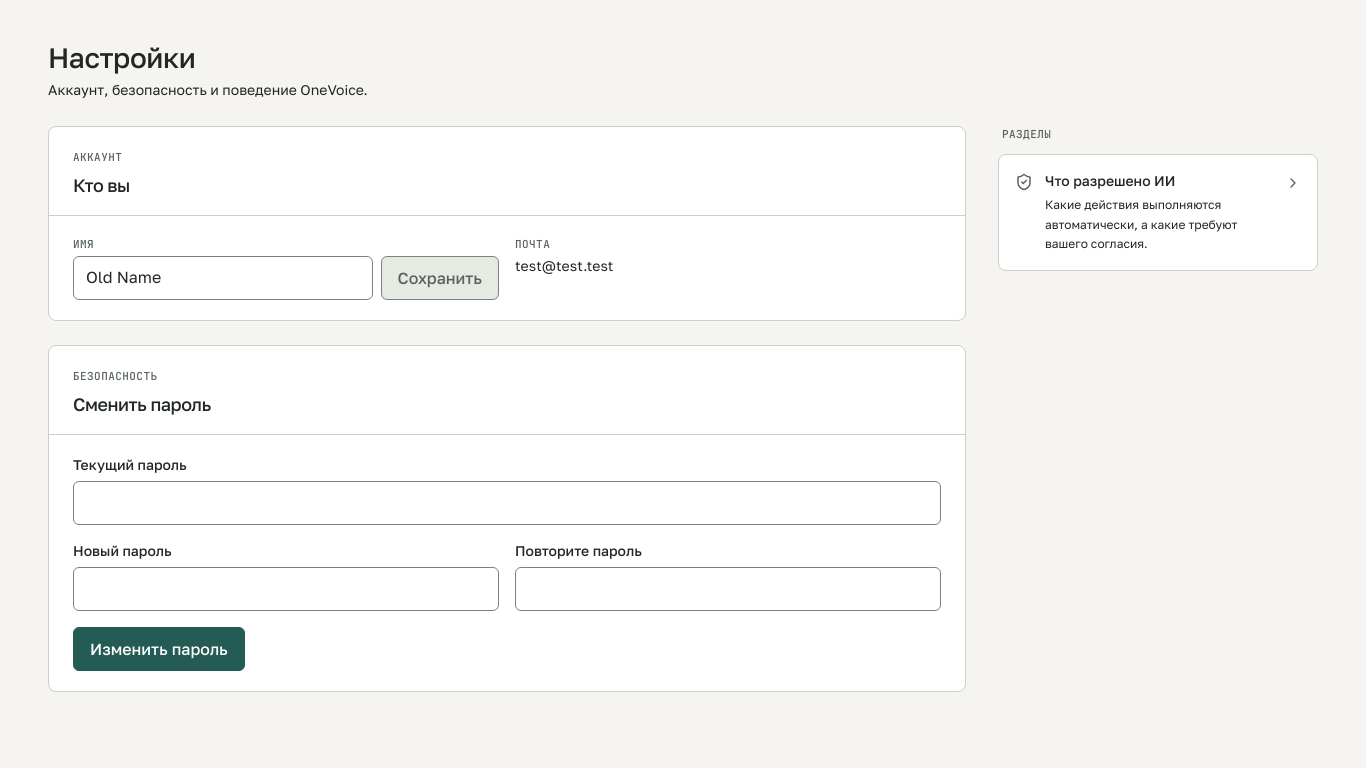
Test: keeps password errors beside the form and announces success only after the response
Type "old-password" into the password field labelled "Текущий пароль".
click(507, 503); type("old-password")  # box [73, 481, 941, 525]
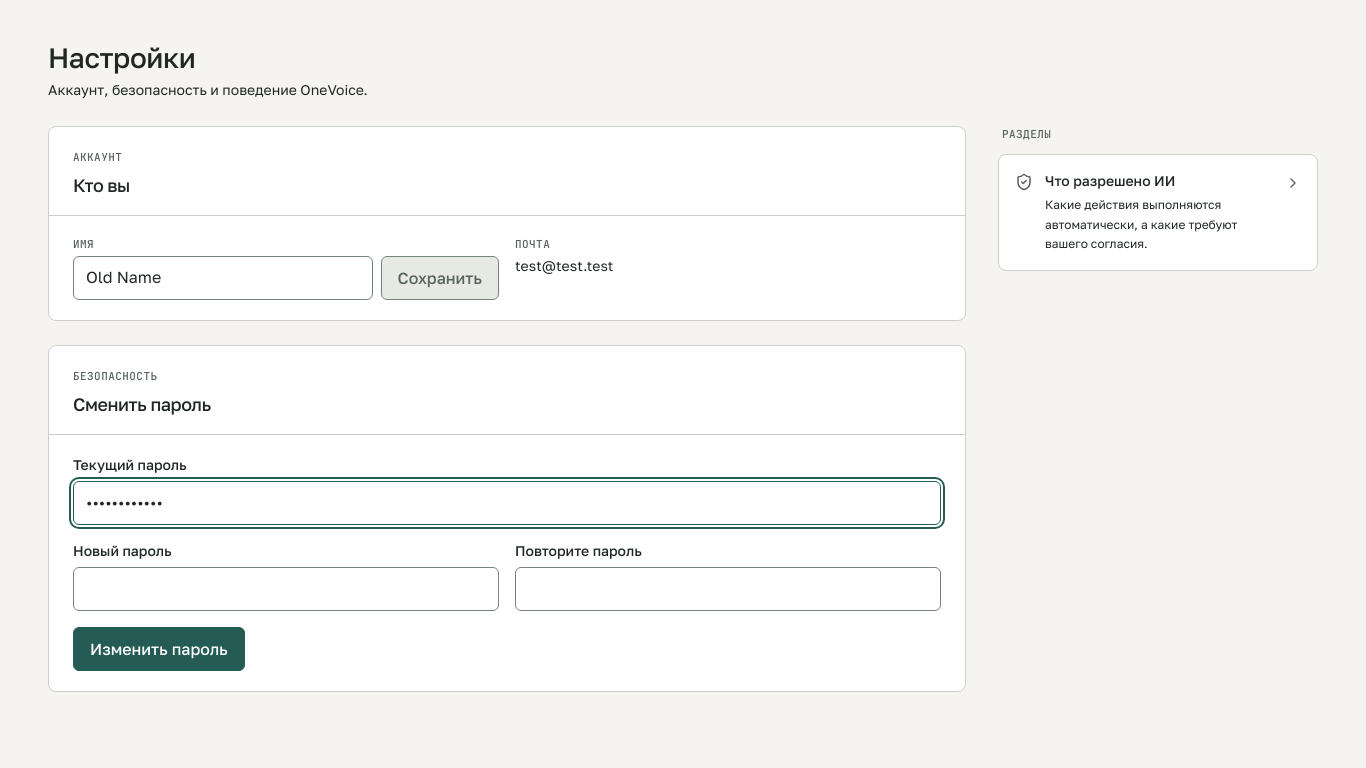
Type "new-password" into the password field labelled "Новый пароль".
click(286, 589); type("new-password")  # box [73, 567, 499, 611]
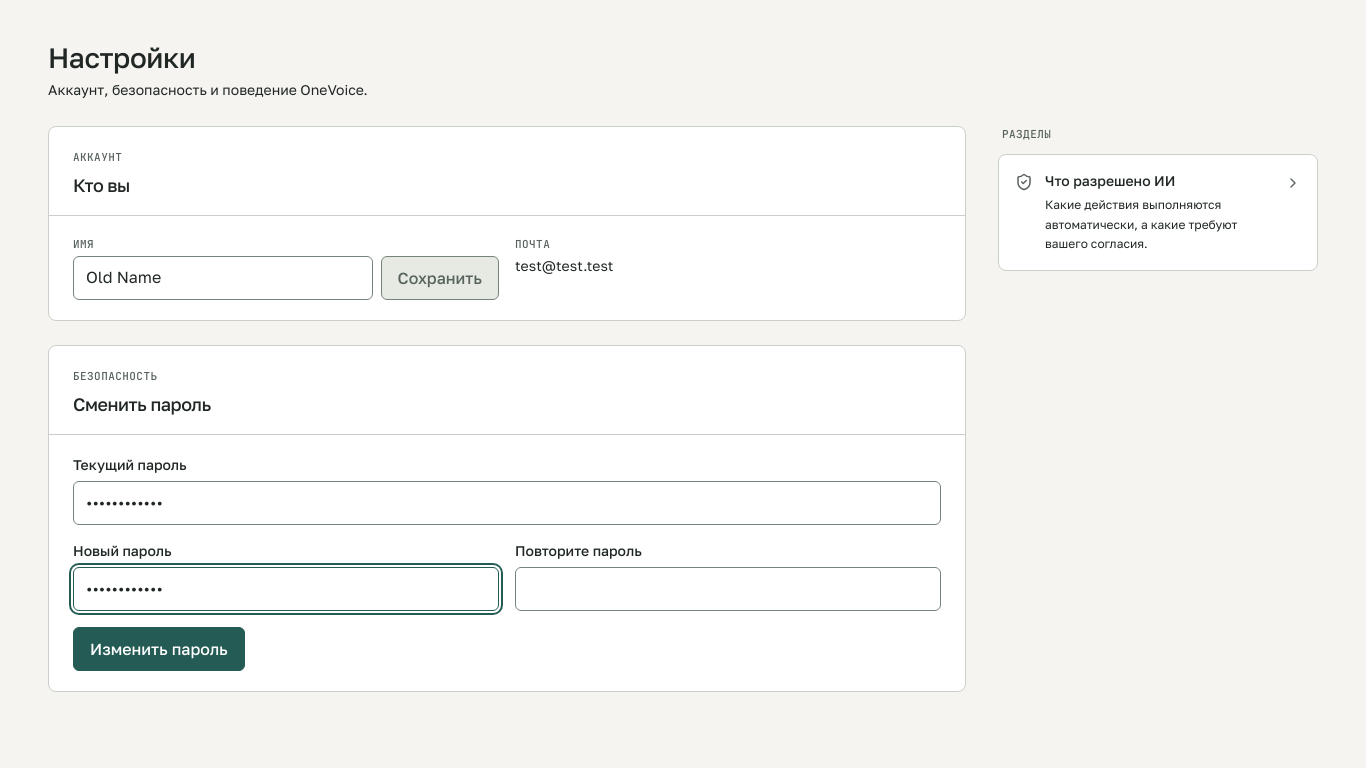
Type "new-password" into the password field with id "confirmPassword".
click(728, 589); type("new-password")  # box [515, 567, 941, 611]
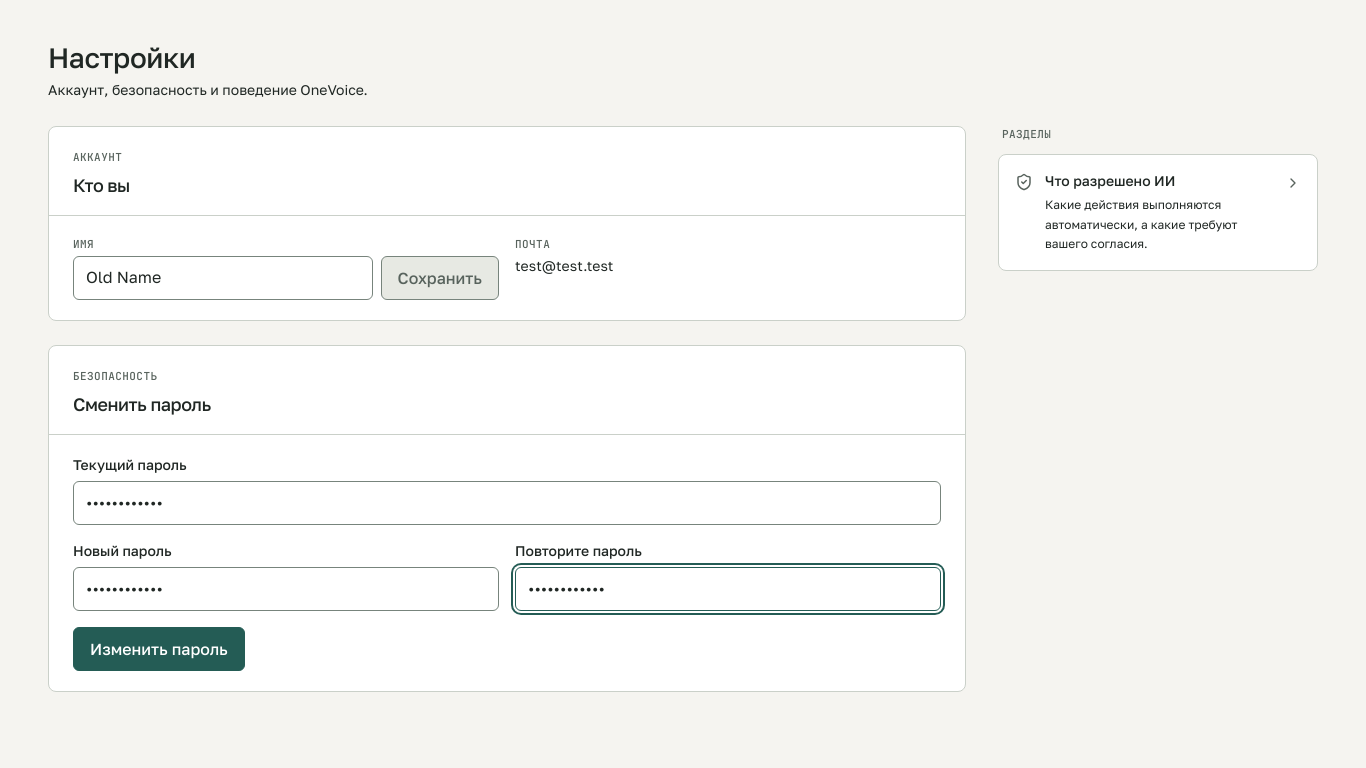
Click the button "Изменить пароль".
click(159, 649)  # box [73, 627, 245, 671]
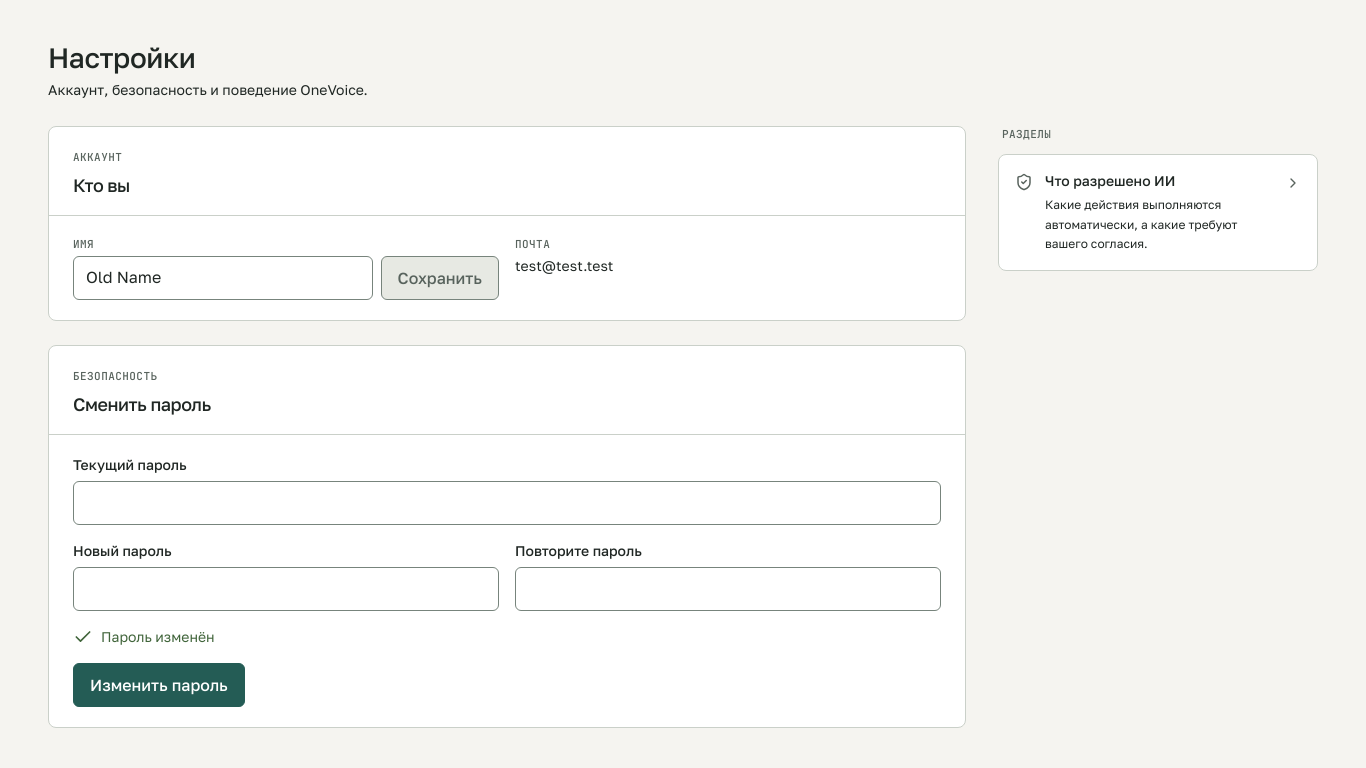
Check: the message reads "Пароль изменён", box [101, 628, 215, 645]
Check: the password field labelled "Текущий пароль" is empty, box [73, 481, 941, 525]
